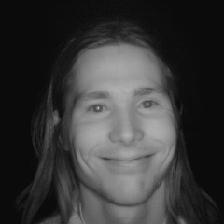happy: (23, 19, 217, 224)
